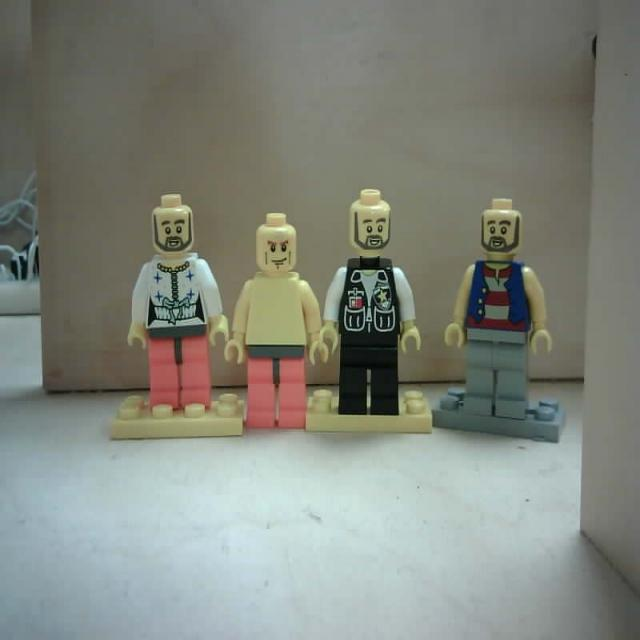Lego-People: (429, 200, 568, 445), (109, 196, 244, 440), (306, 188, 434, 438), (224, 213, 330, 431)
